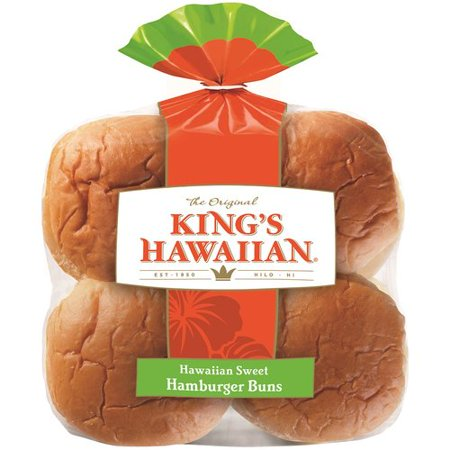hamburger_buns: (44, 113, 406, 449)
